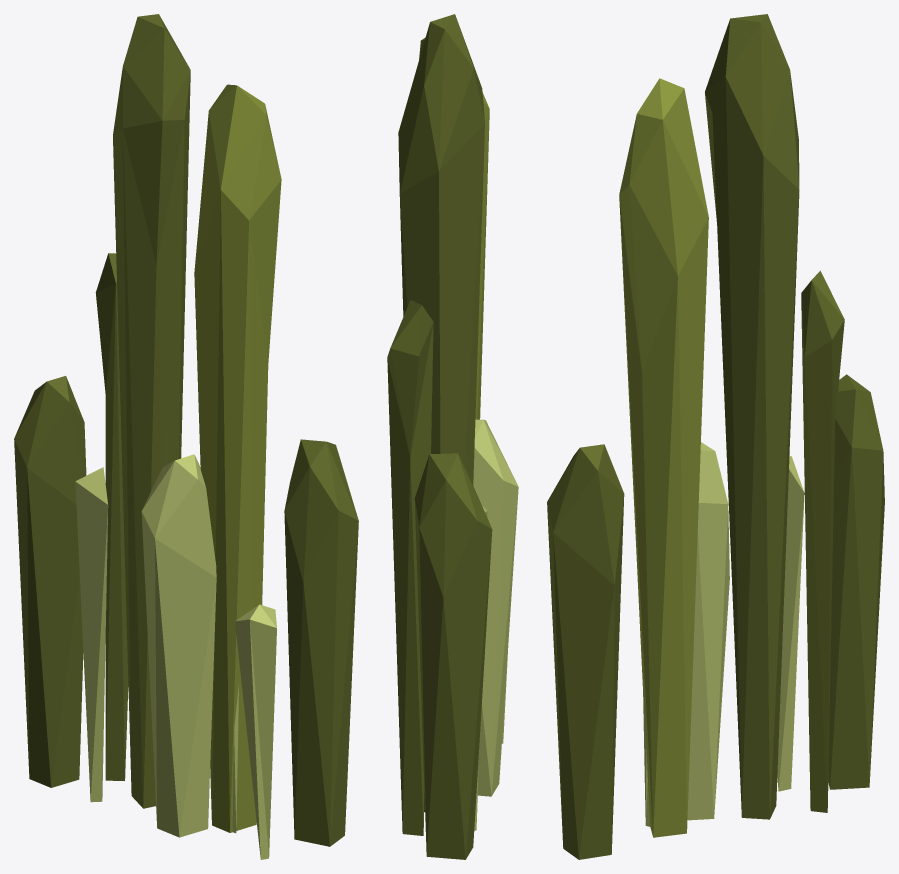
File: ea_swamp_grass_01e_pre__25__lev1.glb
The picture shows the model from 3 angles, left to right: view 1: azimuth 30°, elevation 25°; view 2: azimuth 150°, elevation 25°; view 3: azimuth 270°, elevation 25°; orthographic projection.
Visible parts, largest first — view 1: ea_swamp_grass_01e_pre__25__lev1; view 2: ea_swamp_grass_01e_pre__25__lev1; view 3: ea_swamp_grass_01e_pre__25__lev1.
Boxes of the visible parts, box(x1,y1,x2,y2) form: ea_swamp_grass_01e_pre__25__lev1: box(14, 14, 358, 859); ea_swamp_grass_01e_pre__25__lev1: box(387, 14, 518, 859); ea_swamp_grass_01e_pre__25__lev1: box(547, 14, 884, 859).
Bounding box in the file's own units: 1.31 × 4.88 × 1.88.
Materials: 1 (1 with a texture image).
